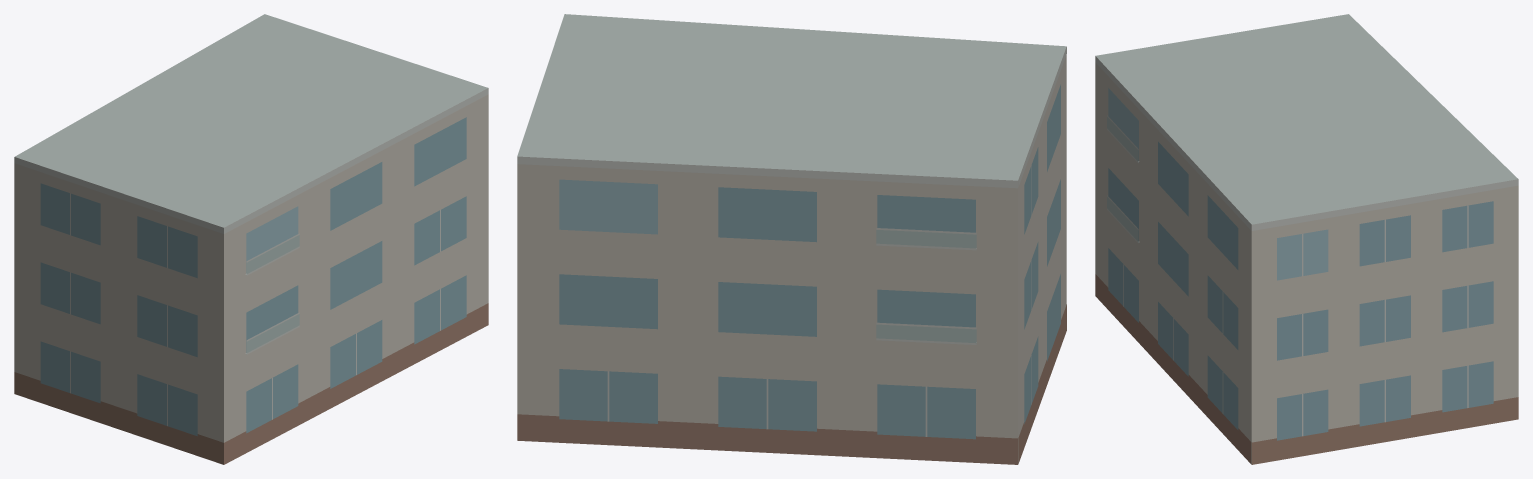
Rendered from survey-upis-32908555.glb.
The picture shows the model from 3 angles, left to right: view 1: azimuth 30°, elevation 25°; view 2: azimuth 150°, elevation 25°; view 3: azimuth 270°, elevation 25°; orthographic projection. The views are drawn at different scales.
Parts seen in each view (by area): view 1: survey-upis-32908555.tmp; view 2: survey-upis-32908555.tmp; view 3: survey-upis-32908555.tmp.
Part boxes in pixels (left/top/right/bottom): survey-upis-32908555.tmp: left=14, top=14, right=488, bottom=464; survey-upis-32908555.tmp: left=517, top=14, right=1066, bottom=464; survey-upis-32908555.tmp: left=1095, top=14, right=1518, bottom=464.
Bounding box in the file's own units: 17.23 × 9.15 × 14.62.
